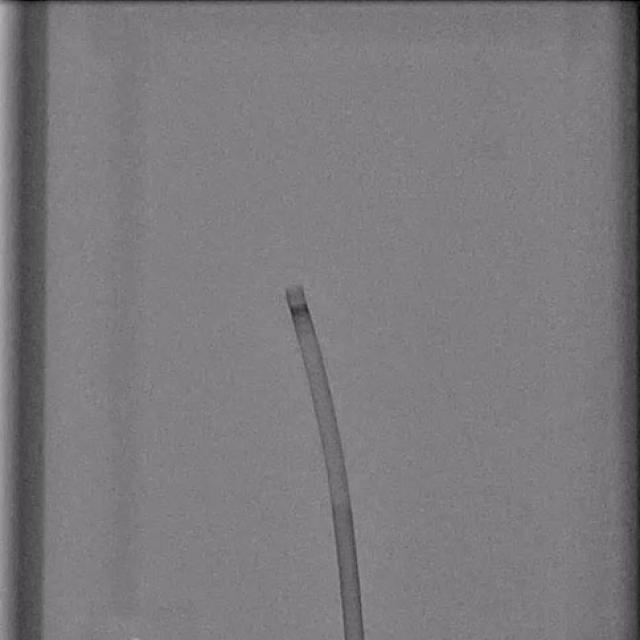bend: (331, 494, 351, 508)
entry: (344, 634, 365, 640)
marker: (289, 302, 311, 318)
tip: (284, 284, 306, 291)
